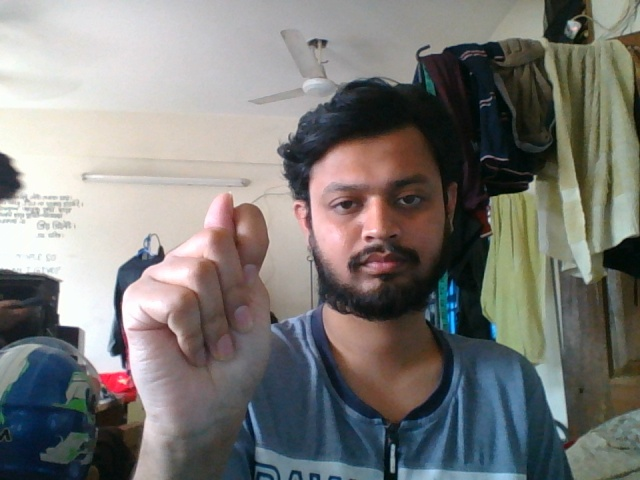ta: (115, 186, 280, 453)
